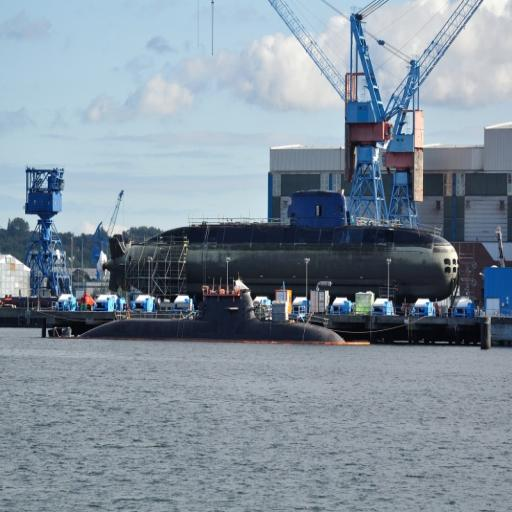submarine: (78, 287, 346, 345)
